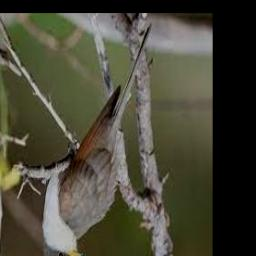Cuckoo: (42, 25, 152, 256)
